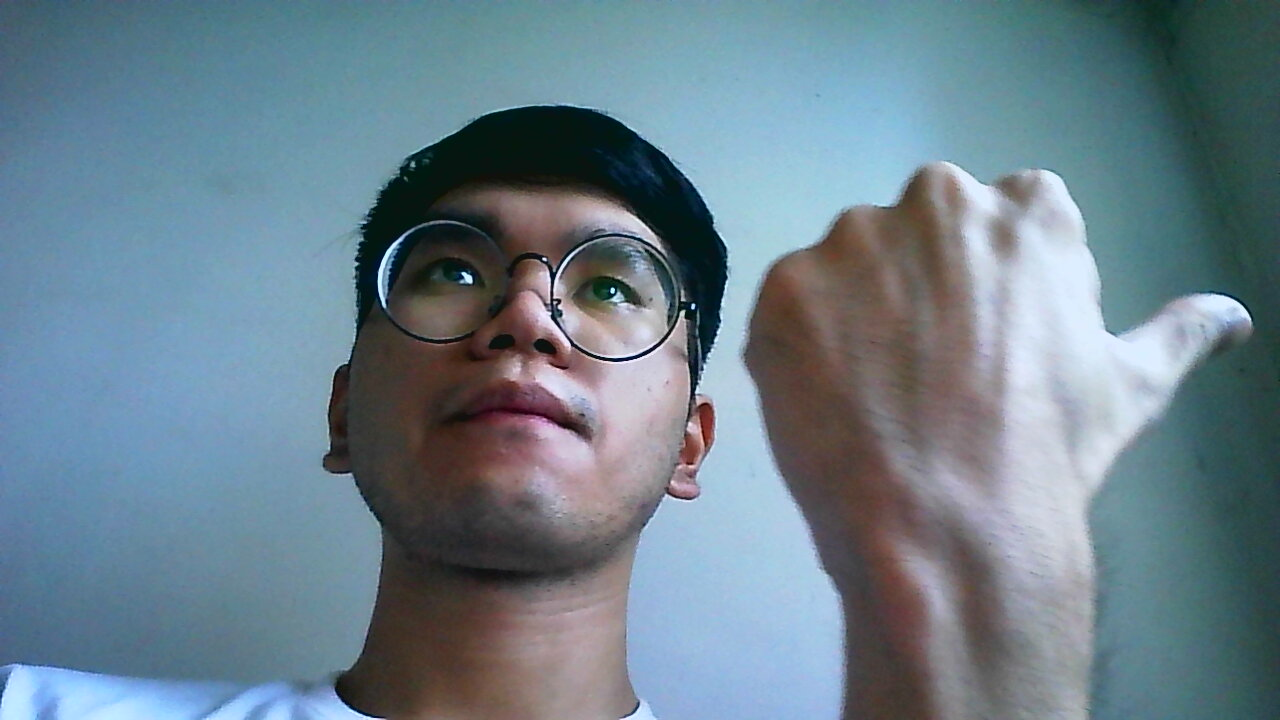thumbs: (741, 163, 1254, 522)
